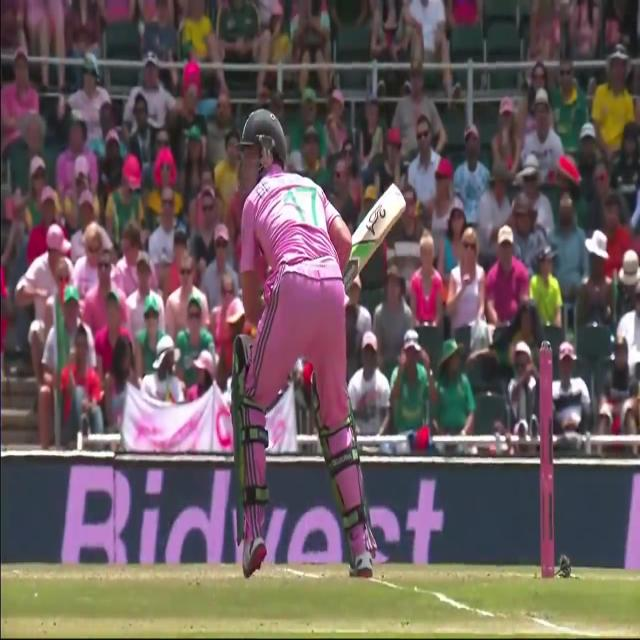Ball: (225, 113, 378, 579)
